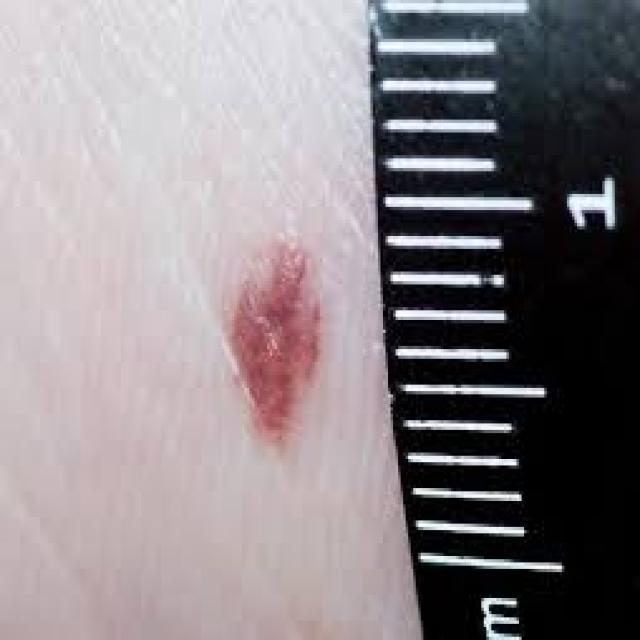Eczema: (208, 229, 335, 450)
